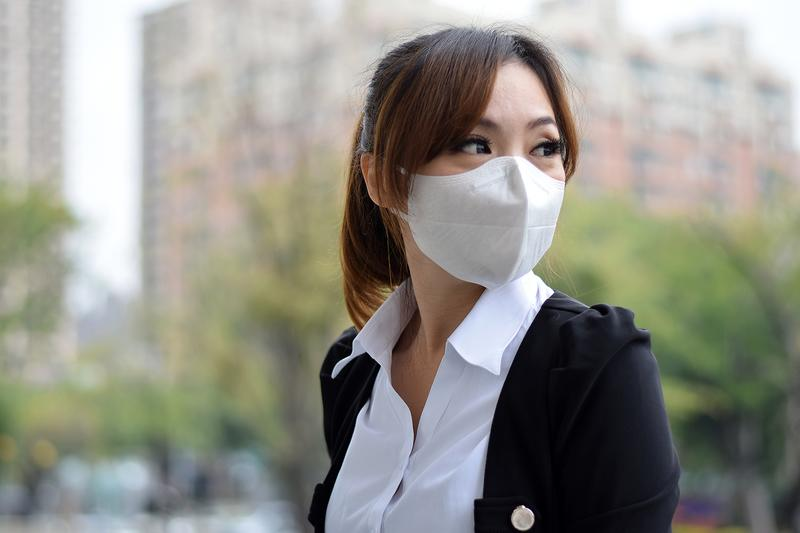mask: (408, 159, 569, 293)
